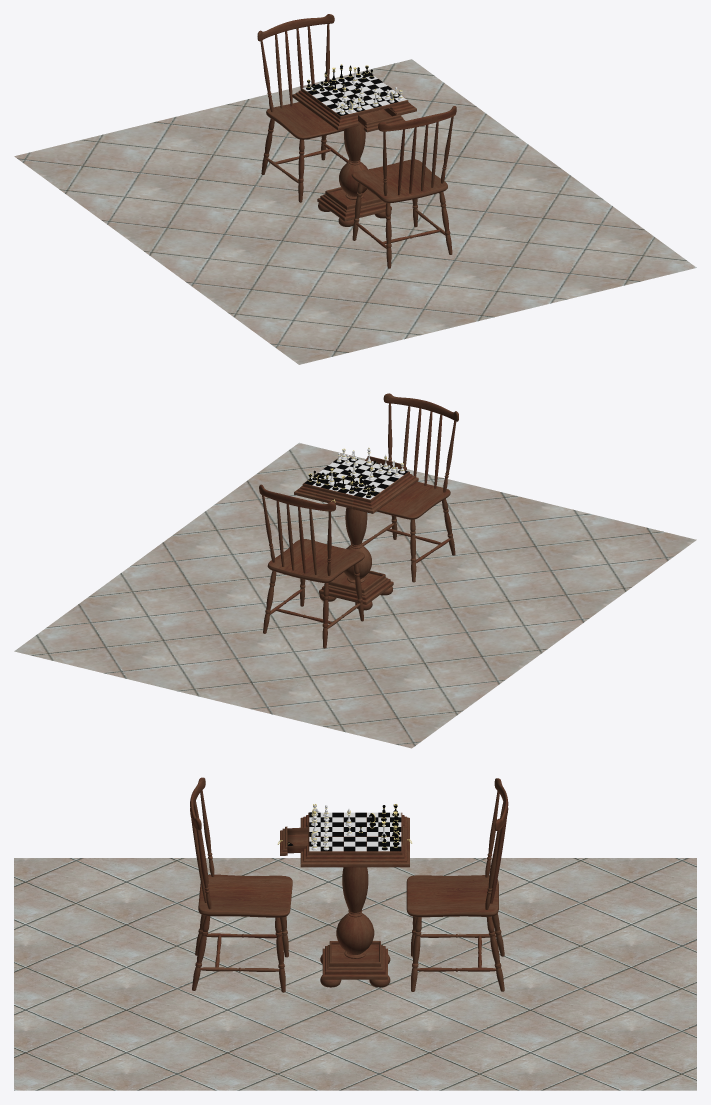
The model's file is jaque_mate_pastor.glb.
3 renders of one model, top to bottom at view 1: azimuth 30°, elevation 25°; view 2: azimuth 150°, elevation 25°; view 3: azimuth 270°, elevation 25°, orthographic. The views are drawn at different scales.
Visible parts, largest first — view 1: suelo_32, soporte_38, silla.001_49, tablero_39, espaldar_40, silla_44, espaldar.001_45, mesa_37, patas.001_47, patas_42, espaldar_soporte_41, espaldar_soporte.001_46 (+1 smaller); view 2: suelo_32, soporte_38, silla_44, tablero_39, espaldar.001_45, espaldar_40, silla.001_49, mesa_37, patas_42, patas.001_47, espaldar_soporte_41, espaldar_soporte.001_46; view 3: suelo_32, soporte_38, silla.001_49, silla_44, tablero_39, mesa_37, patas.001_47, patas_42, espaldar.001_45, espaldar_40, patas_soporte.001_48, patas_soporte_43 (+1 smaller).
Part boxes in pixels (left/top/right/bottom): suelo_32: left=14, top=59, right=696, bottom=364; soporte_38: left=317, top=124, right=391, bottom=226; silla.001_49: left=351, top=159, right=447, bottom=203; tablero_39: left=302, top=72, right=406, bottom=115; espaldar_40: left=260, top=24, right=329, bottom=112; silla_44: left=266, top=102, right=343, bottom=139; espaldar.001_45: left=383, top=116, right=453, bottom=195; mesa_37: left=292, top=72, right=416, bottom=130; patas.001_47: left=352, top=183, right=452, bottom=268; patas_42: left=261, top=118, right=326, bottom=202; espaldar_soporte_41: left=257, top=14, right=334, bottom=41; espaldar_soporte.001_46: left=378, top=106, right=456, bottom=131; suelo_32: left=14, top=443, right=696, bottom=748; soporte_38: left=319, top=507, right=393, bottom=610; silla_44: left=267, top=539, right=364, bottom=582; tablero_39: left=304, top=456, right=408, bottom=499; espaldar.001_45: left=388, top=403, right=456, bottom=492; espaldar_40: left=262, top=495, right=331, bottom=575; silla.001_49: left=377, top=481, right=450, bottom=519; mesa_37: left=294, top=455, right=418, bottom=513; patas_42: left=263, top=563, right=363, bottom=648; patas.001_47: left=391, top=498, right=455, bottom=582; espaldar_soporte_41: left=259, top=484, right=336, bottom=511; espaldar_soporte.001_46: left=383, top=393, right=458, bottom=421; suelo_32: left=14, top=858, right=696, bottom=1090; soporte_38: left=320, top=867, right=390, bottom=987; silla.001_49: left=198, top=874, right=292, bottom=917; silla_44: left=406, top=875, right=498, bottom=917; tablero_39: left=309, top=812, right=401, bottom=851; mesa_37: left=300, top=812, right=409, bottom=867; patas.001_47: left=192, top=915, right=288, bottom=992; patas_42: left=411, top=913, right=504, bottom=991; espaldar.001_45: left=191, top=790, right=214, bottom=909; espaldar_40: left=485, top=791, right=506, bottom=909; patas_soporte.001_48: left=200, top=933, right=282, bottom=971; patas_soporte_43: left=417, top=934, right=496, bottom=971.
Bounding box in the file's own units: 2.7 × 0.9462 × 3.35.
9 materials, 3 textured.
